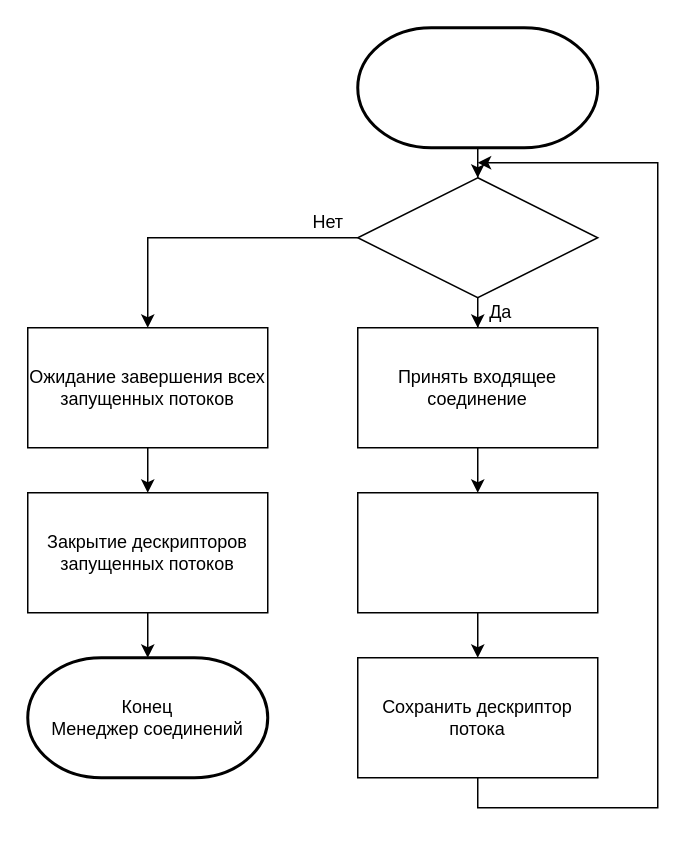
Some shapes in this 696 by 846 pixel diagram are drawn without their labels. The centre of each missing label's shape, as x and y in pixels:
"Запустить обработчик клиента в новом потоке" belongs at point (477, 552).
"Начало Менеджер соединений" belongs at point (477, 87).
"Сокет сервера активен" belongs at point (477, 237).
